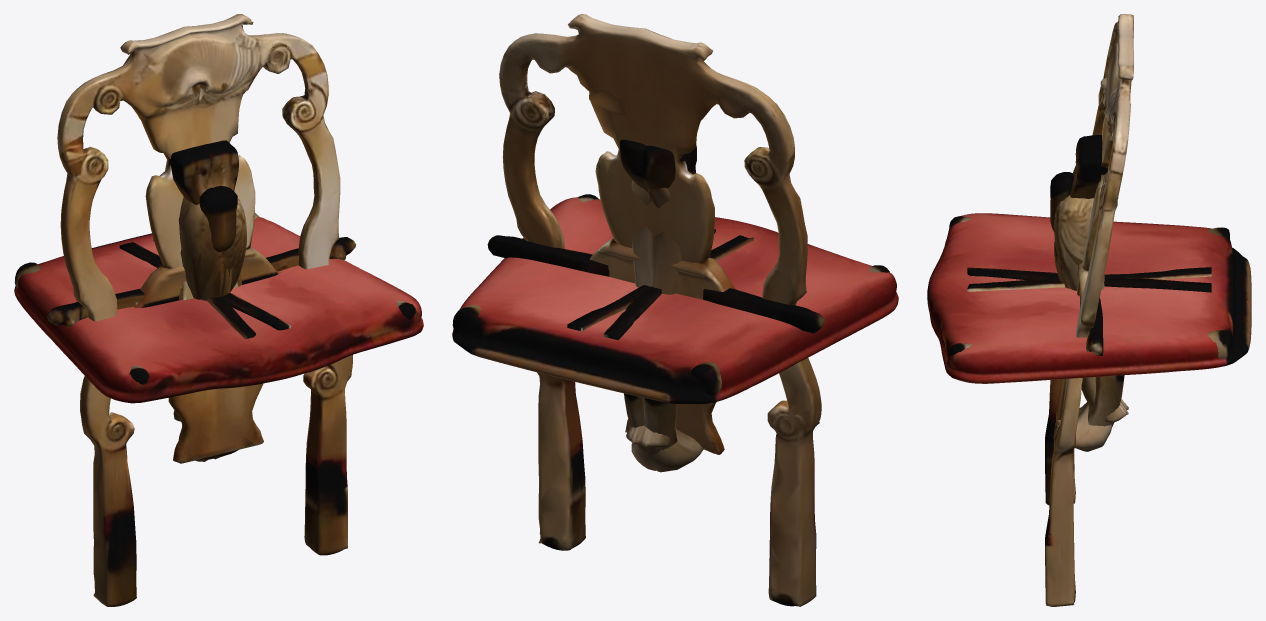
3 views of the same model, side by side, from view 1: azimuth 30°, elevation 25°; view 2: azimuth 150°, elevation 25°; view 3: azimuth 270°, elevation 25° (orthographic). The views are drawn at different scales.
Visible parts, largest first — view 1: root.0, root.1, root.4, root.3, root.5, root.6, root.7, root.8, root.10, root.2, root.9; view 2: root.0, root.1, root.3, root.6, root.4, root.5, root.9, root.2, root.10; view 3: root.1, root.0, root.3, root.4, root.9, root.10, root.2, root.7, root.8, root.6.
Boxes of the visible parts, x1=… form: root.0: x1=57, y1=14, x2=352, y2=606; root.1: x1=14, y1=217, x2=423, y2=403; root.4: x1=178, y1=140, x2=238, y2=461; root.3: x1=169, y1=146, x2=246, y2=459; root.5: x1=134, y1=247, x2=281, y2=308; root.6: x1=47, y1=237, x2=356, y2=326; root.7: x1=199, y1=187, x2=231, y2=296; root.8: x1=173, y1=186, x2=237, y2=421; root.10: x1=119, y1=242, x2=290, y2=330; root.2: x1=14, y1=213, x2=415, y2=384; root.9: x1=153, y1=238, x2=255, y2=339; root.0: x1=499, y1=14, x2=821, y2=606; root.1: x1=452, y1=197, x2=898, y2=403; root.3: x1=631, y1=145, x2=696, y2=470; root.6: x1=487, y1=235, x2=824, y2=333; root.4: x1=620, y1=139, x2=703, y2=472; root.5: x1=590, y1=238, x2=735, y2=299; root.9: x1=567, y1=235, x2=753, y2=331; root.2: x1=452, y1=194, x2=889, y2=395; root.10: x1=603, y1=229, x2=715, y2=340; root.1: x1=927, y1=213, x2=1251, y2=383; root.0: x1=1045, y1=14, x2=1133, y2=606; root.3: x1=1054, y1=135, x2=1112, y2=451; root.4: x1=1070, y1=146, x2=1124, y2=426; root.9: x1=967, y1=267, x2=1211, y2=292; root.10: x1=967, y1=267, x2=1211, y2=291; root.2: x1=949, y1=216, x2=1229, y2=358; root.7: x1=1050, y1=172, x2=1128, y2=422; root.8: x1=1050, y1=175, x2=1128, y2=409; root.6: x1=1079, y1=287, x2=1103, y2=355.
Bounding box in the file's own units: 27039 × 42889 × 24633.
1 material, 1 textured.
